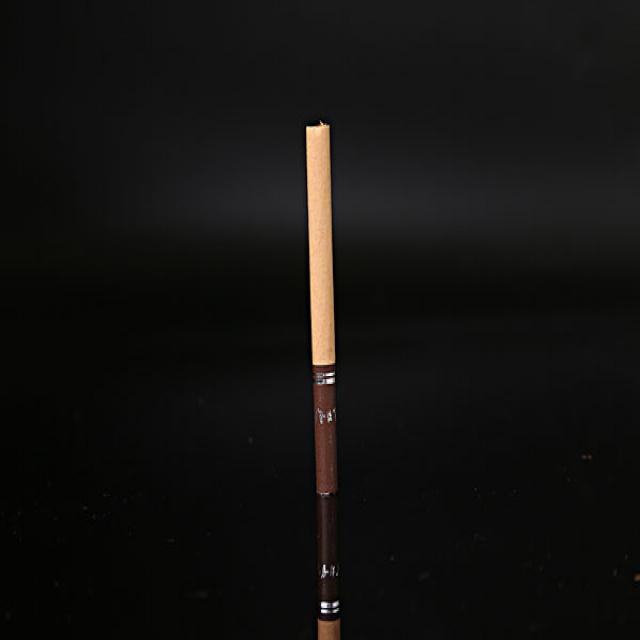smoking: (304, 121, 339, 499)
